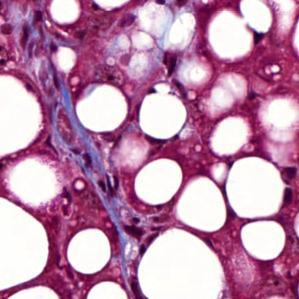steatosis: (226, 152, 285, 220), (137, 93, 190, 139), (135, 156, 184, 204), (67, 228, 112, 273)
